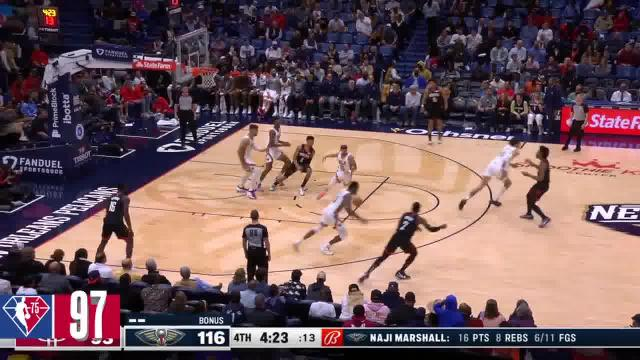ball-handler: (318, 142, 364, 206)
player: (358, 201, 444, 284), (290, 178, 359, 257), (460, 137, 521, 209), (88, 181, 137, 268), (268, 133, 315, 195), (235, 122, 271, 200), (524, 146, 552, 229), (260, 118, 292, 188)
